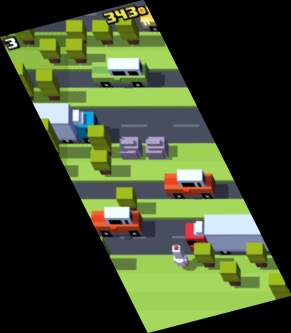car: (92, 58, 150, 88), (164, 169, 217, 199), (90, 207, 143, 237), (138, 3, 162, 31)
duck: (170, 244, 189, 270)
rock: (119, 136, 142, 159), (143, 137, 168, 158)
tree: (38, 118, 63, 160), (267, 271, 291, 305), (35, 70, 61, 101), (87, 126, 113, 156), (115, 17, 140, 43), (217, 260, 242, 286), (64, 38, 89, 62), (91, 20, 115, 45), (243, 243, 268, 267), (192, 242, 215, 267), (40, 38, 61, 65), (115, 186, 138, 210), (90, 151, 111, 176), (14, 20, 35, 44), (66, 20, 87, 41)
truck: (184, 214, 269, 253)
